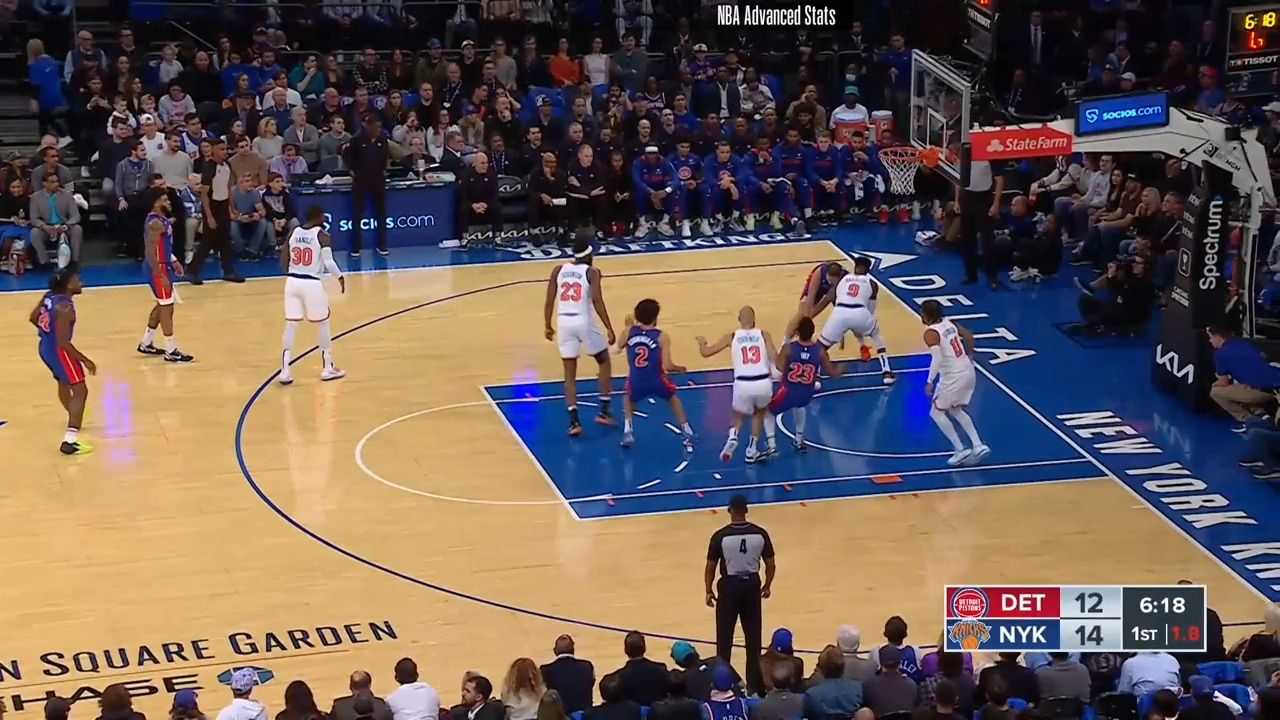net: (880, 140, 943, 199)
player: (539, 236, 622, 446), (24, 270, 92, 471), (800, 255, 897, 392), (278, 202, 348, 391), (700, 302, 781, 462), (614, 297, 697, 452), (918, 300, 992, 473), (759, 315, 831, 452), (140, 189, 189, 364)
referee: (700, 491, 779, 681), (188, 138, 251, 285), (954, 152, 1008, 292)
